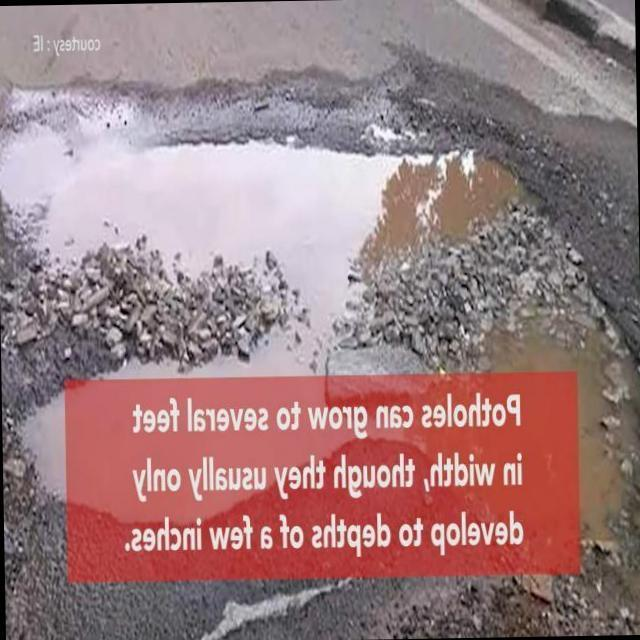Pothole: (38, 137, 631, 554)
